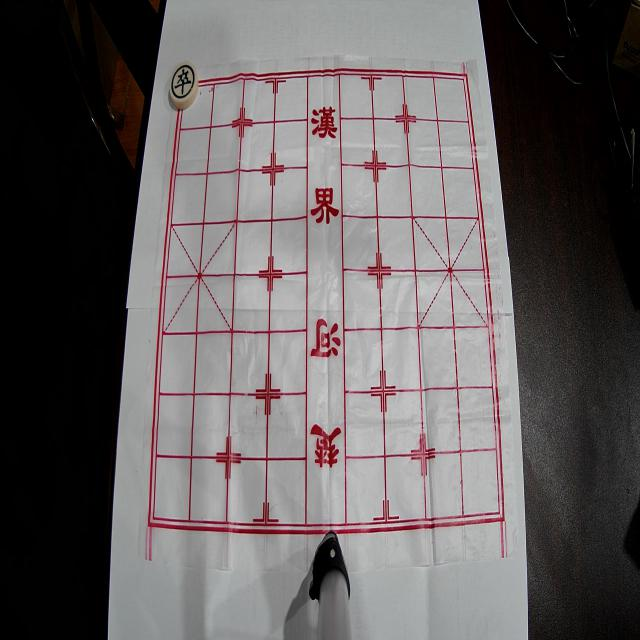black-soldier: (169, 62, 198, 108)
